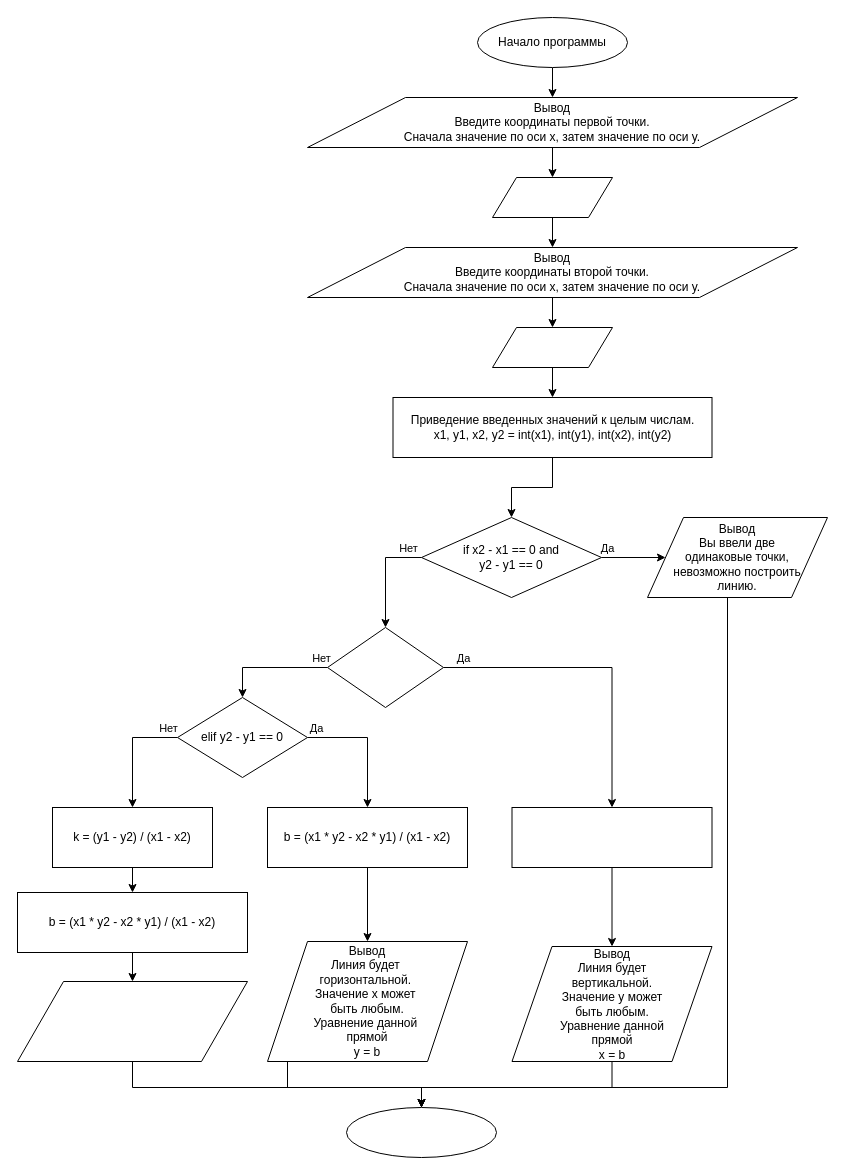
The diagram is 845 pixels wide and 1175 high, and some of its shapes have lost their labels. Here are the shapes that lost their labels. From the top down, the centre of each, then its label:
At [552,197]: "Ввод x1, y1".
At [552,347]: "Ввод x2, y2".
At [385,667]: "elif x2 - x1 == 0".
At [611,837]: "b = (x1 * y2 - x2 * y1) / (y2 - y1)".
At [132,1021]: "Вывод Уравнение прямой, проходящей через указанные координаты y = kx + b".
At [421,1132]: "Конец программы".
